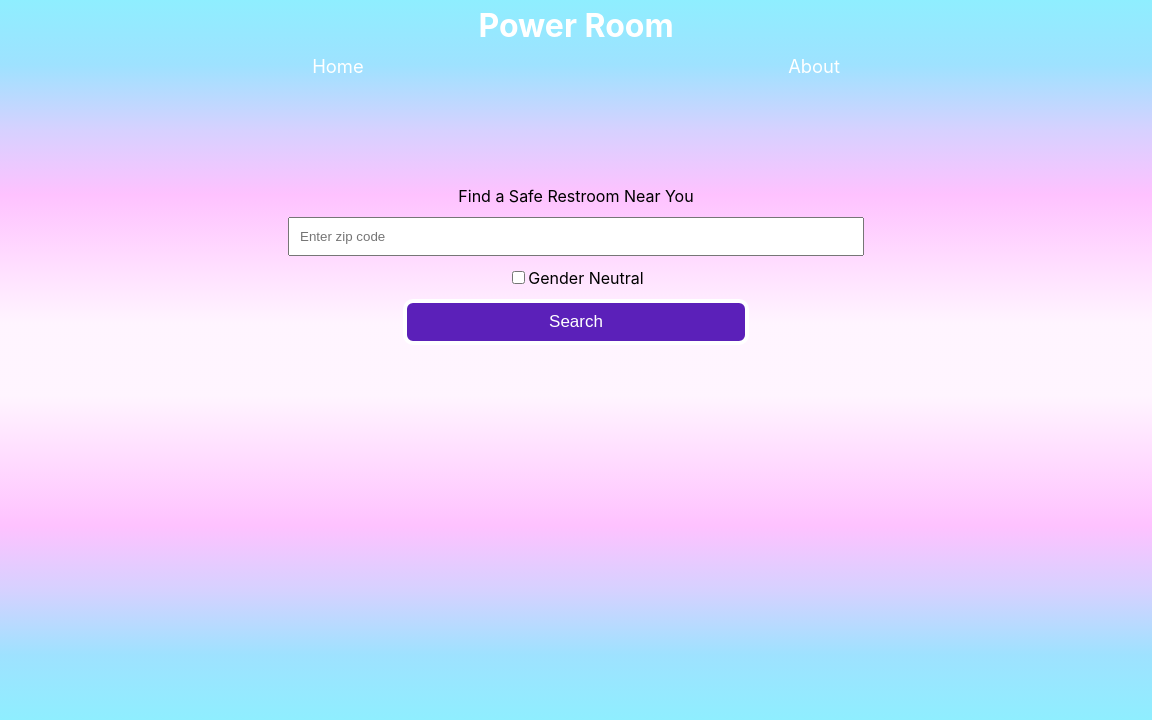
Search Bar › Should display appropriate error message when zip code is not found
Type "99999" into the number field with test id "search-input". click: coordinates (576, 237)
box: [288,217,864,256]
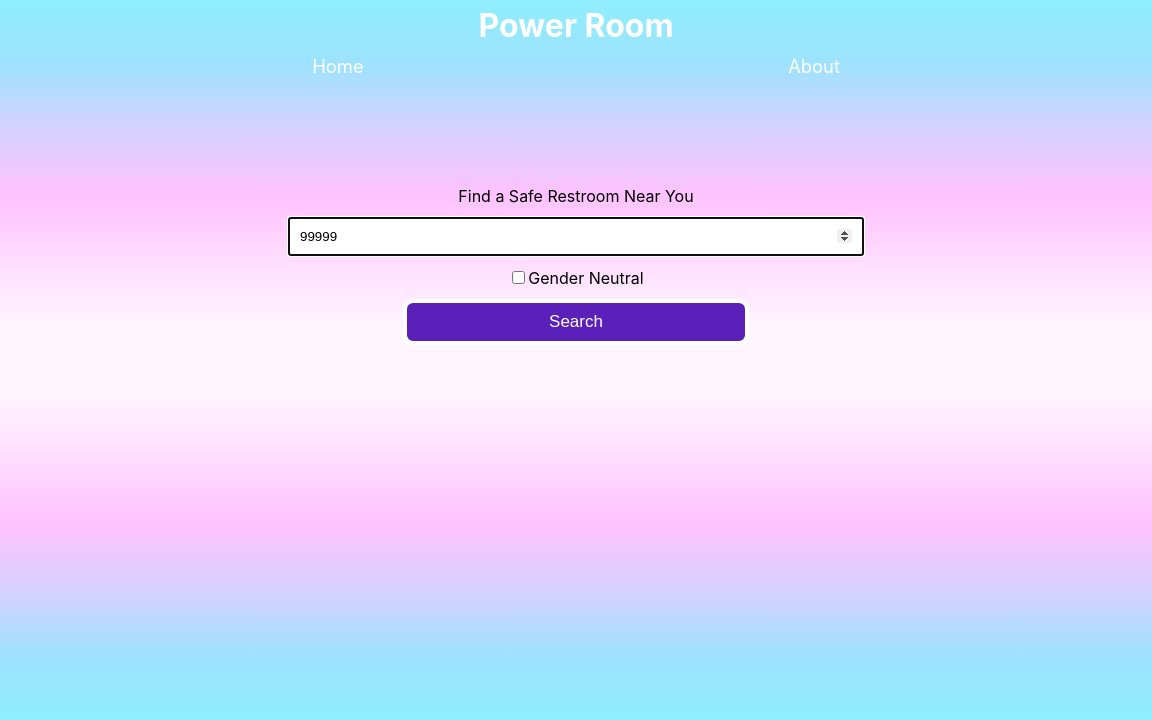
Click the button "Search". click: coordinates (576, 322)
box: [403,299,749,345]
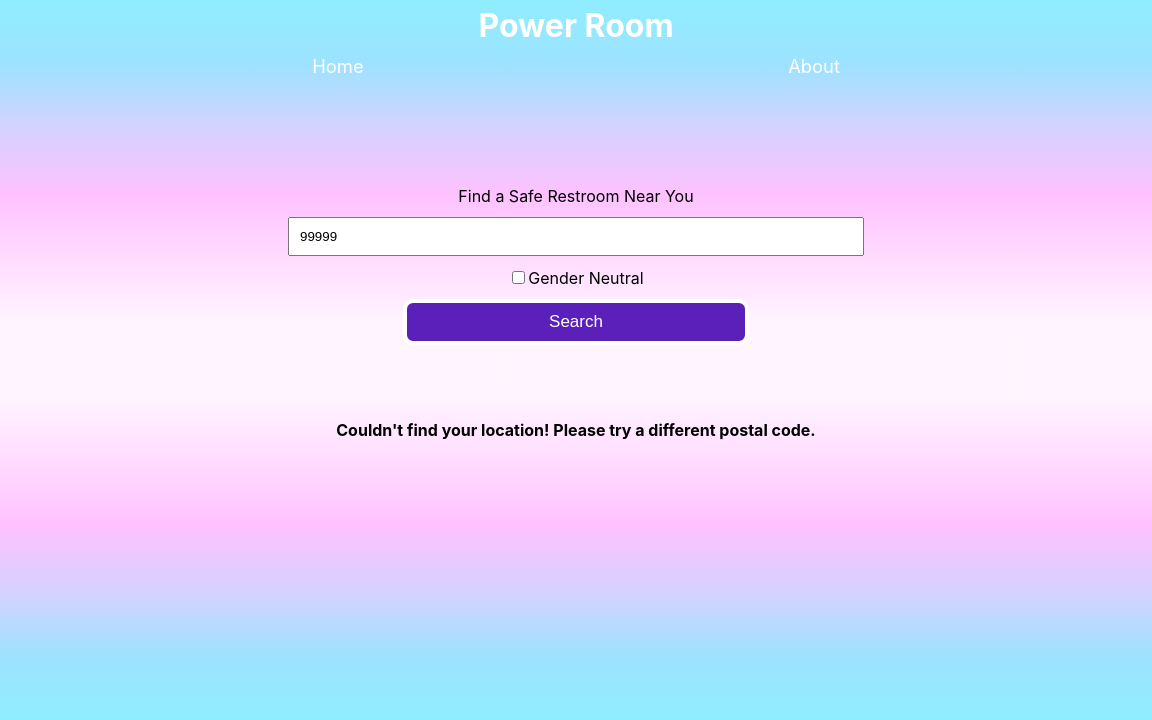
Now the heading with test id "error-message" is shown, box [336,420,815,440]
